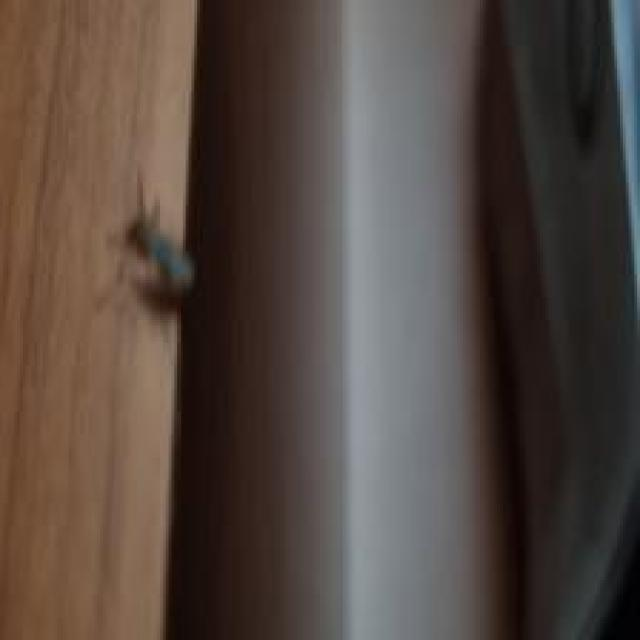Culex: (94, 166, 197, 317)
